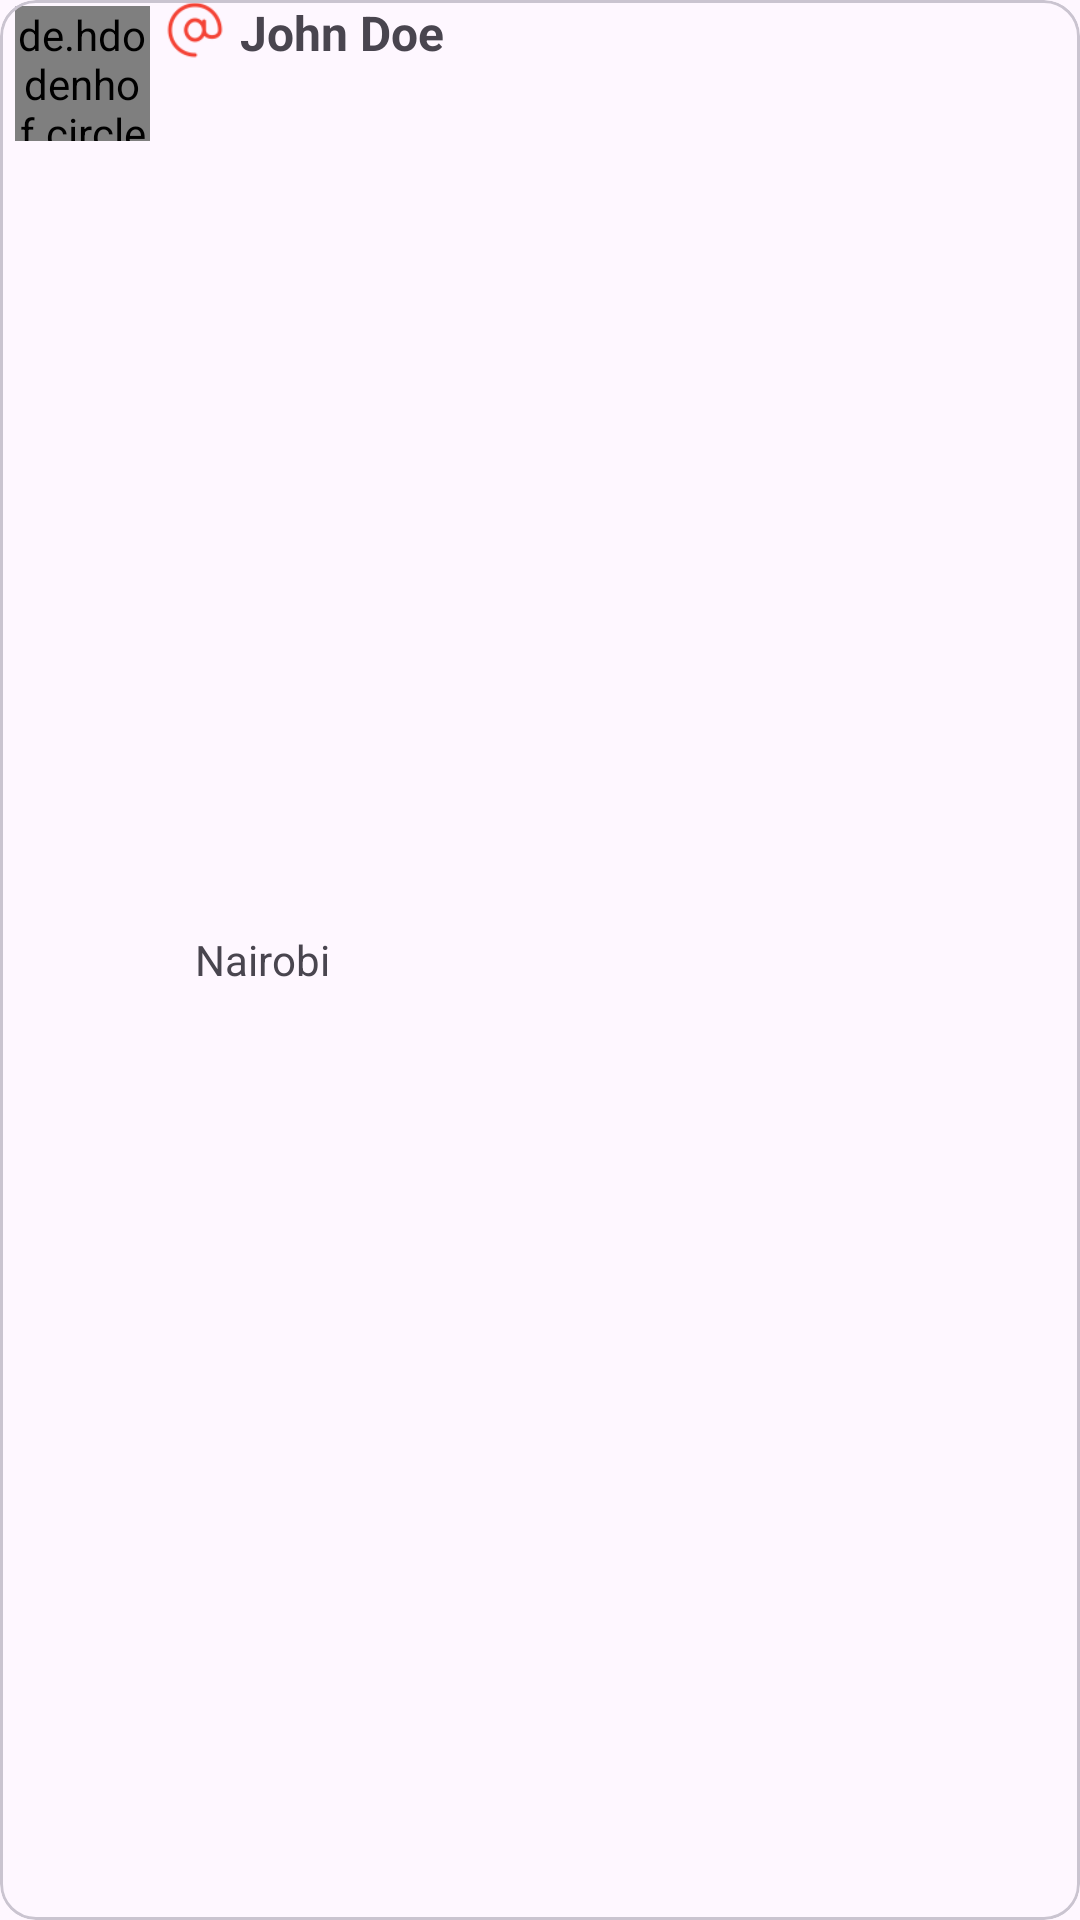

Icon click points for this 1080px×1920px phone screenshot, format (x,y):
mentionred: (195,29)
